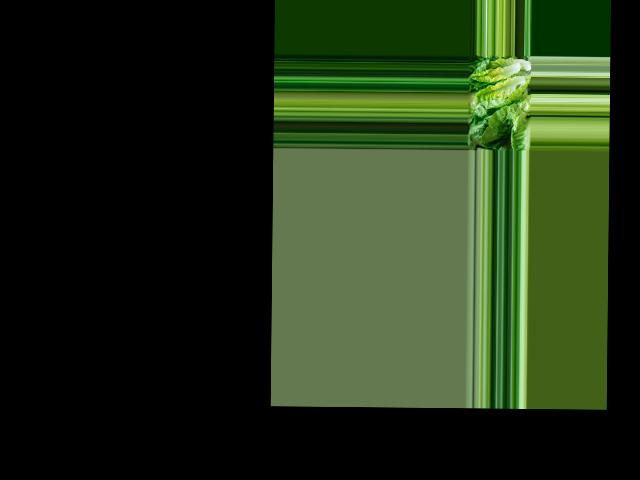lettuce: (472, 57, 532, 118)
